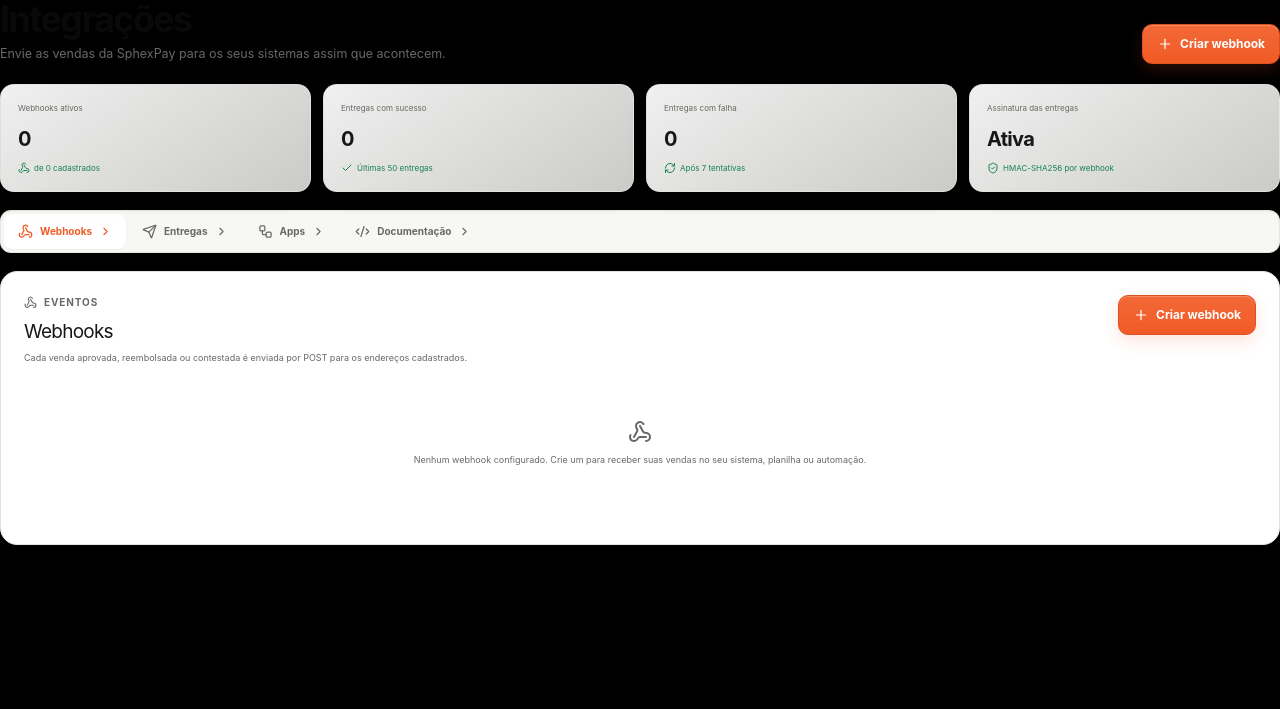
it: Integrações › não mostra apps conectados, chaves ou status inventados
The width and height of the screenshot is (1280, 709).
expect the text "Nenhum webhook configurado" is shown: met, box [414, 454, 866, 465]
Step 1. Click the tab "Apps" → [291, 232], box [244, 214, 339, 249]
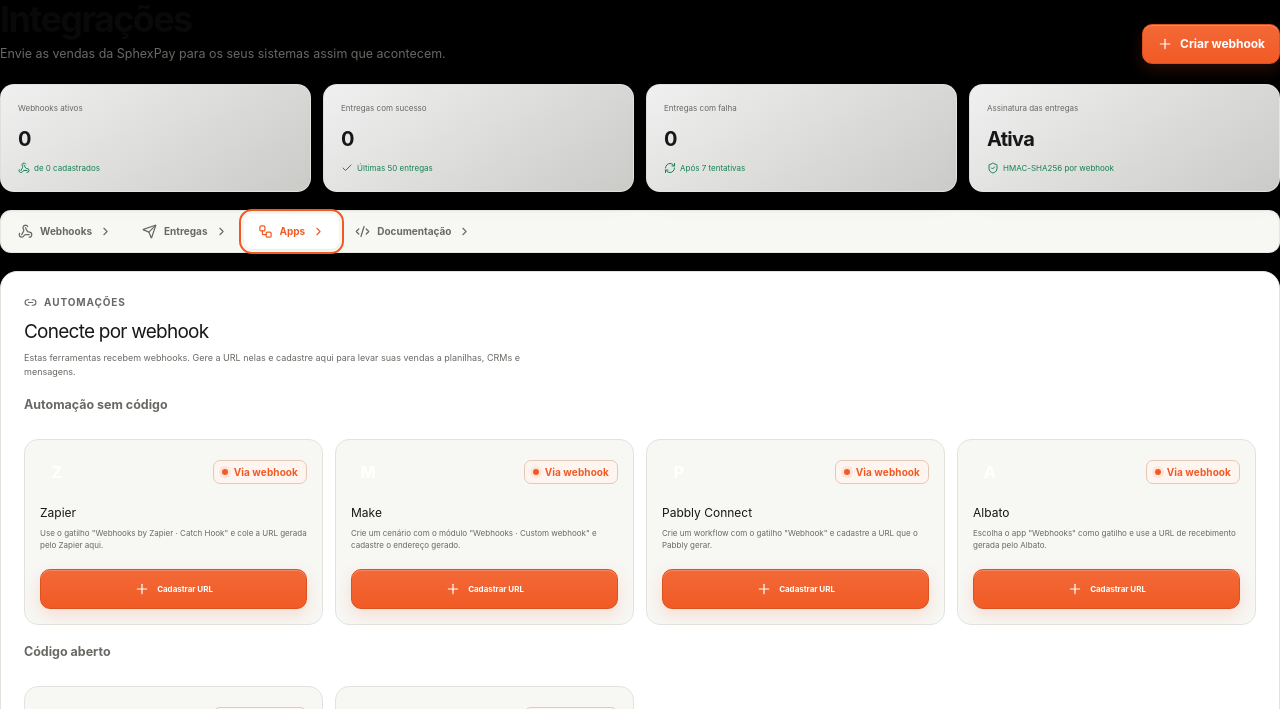
expect the text "Via webhook" is shown 8 times: met
expect the heading "Automação sem código" is shown: met, box [24, 398, 168, 412]
